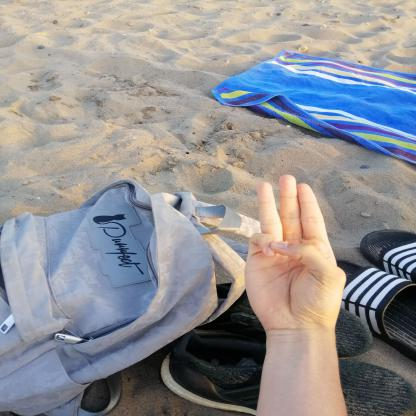THA: (228, 165, 355, 345)
